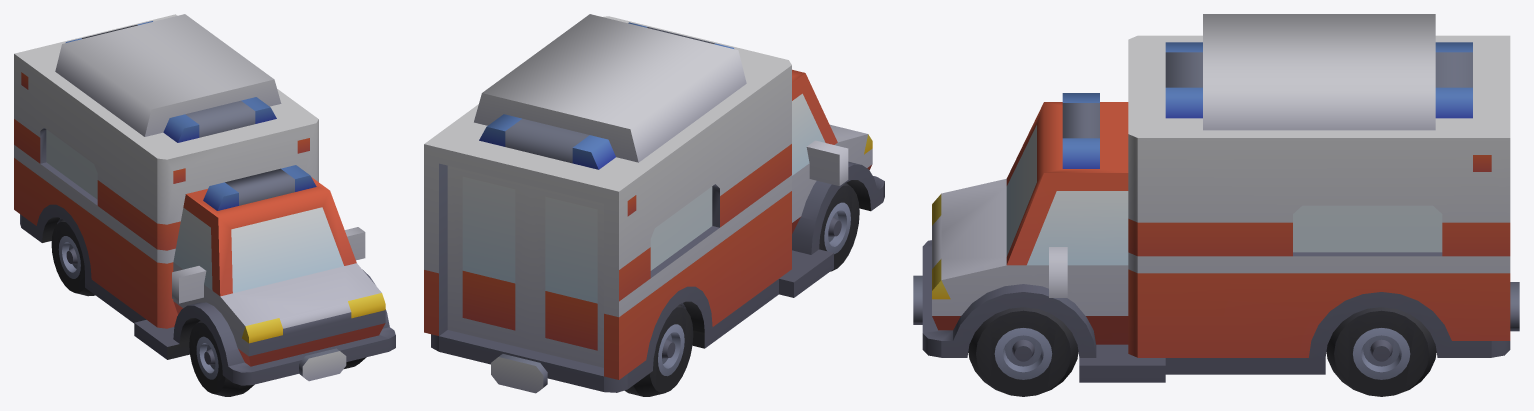
Rendered from ambulancia.glb.
3 renders of one model, left to right at view 1: azimuth 30°, elevation 25°; view 2: azimuth 150°, elevation 25°; view 3: azimuth 270°, elevation 25°, orthographic. The views are drawn at different scales.
Visible parts, largest first — view 1: modelo; view 2: modelo; view 3: modelo.
Part boxes in pixels (box(x1,y1,x2,y2)): modelo: box(14, 14, 395, 396); modelo: box(424, 14, 884, 396); modelo: box(913, 14, 1519, 396).
Bounding box in the file's own units: 1.05 × 1.26 × 2.27.
